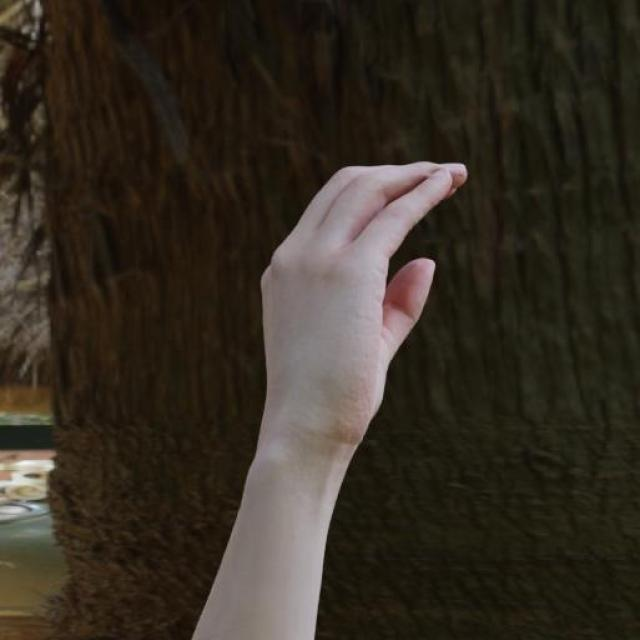C: (258, 158, 469, 442)
